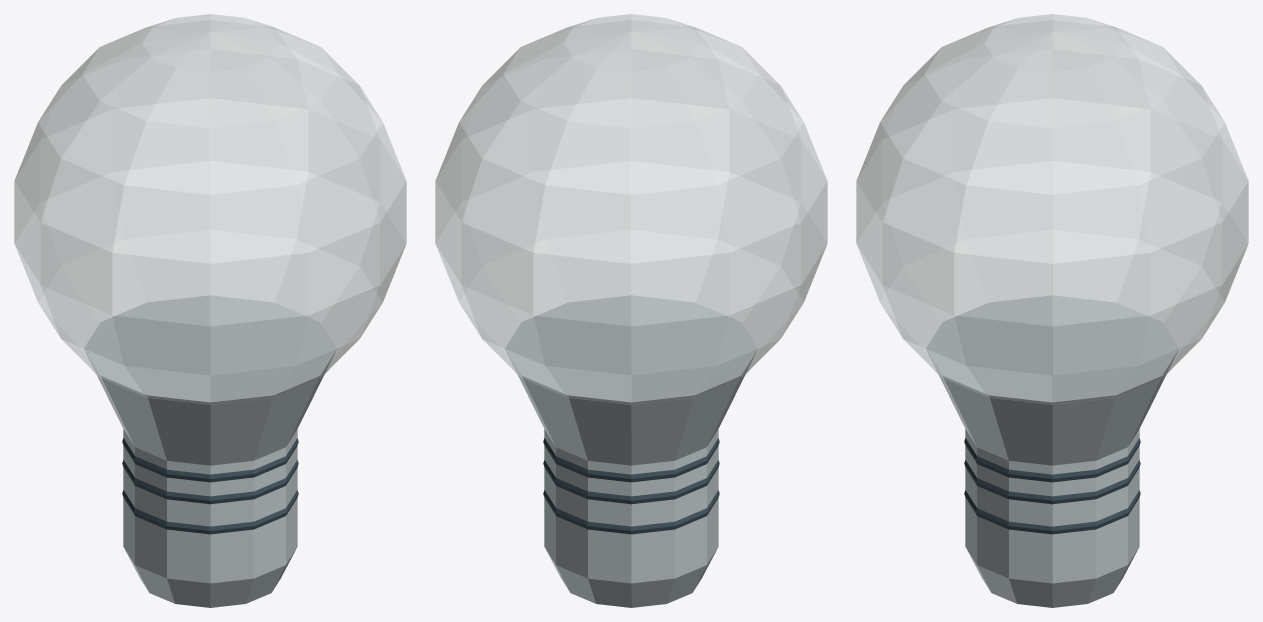
Rendered from Light.glb.
The picture shows the model from 3 angles, left to right: view 1: azimuth 30°, elevation 25°; view 2: azimuth 150°, elevation 25°; view 3: azimuth 270°, elevation 25°; orthographic projection.
Parts seen in each view (by area): view 1: group1472566895, group2024846406, group906973474, group2042428126, group1246136509; view 2: group1472566895, group2024846406, group906973474, group2042428126, group1246136509; view 3: group1472566895, group2024846406, group906973474, group2042428126, group1246136509.
Boxes of the visible parts, x1,y1,x2,y2 form: group1472566895: [14, 14, 406, 404]; group2024846406: [84, 295, 336, 607]; group906973474: [122, 490, 298, 534]; group2042428126: [122, 438, 298, 482]; group1246136509: [122, 460, 298, 504]; group1472566895: [435, 14, 827, 404]; group2024846406: [505, 295, 757, 607]; group906973474: [543, 490, 719, 534]; group2042428126: [543, 438, 719, 482]; group1246136509: [543, 460, 719, 504]; group1472566895: [856, 14, 1248, 404]; group2024846406: [926, 295, 1178, 607]; group906973474: [964, 490, 1140, 534]; group2042428126: [964, 438, 1140, 482]; group1246136509: [964, 460, 1140, 504].
Bounding box in the file's own units: 0.0889 × 0.1366 × 0.0889.
